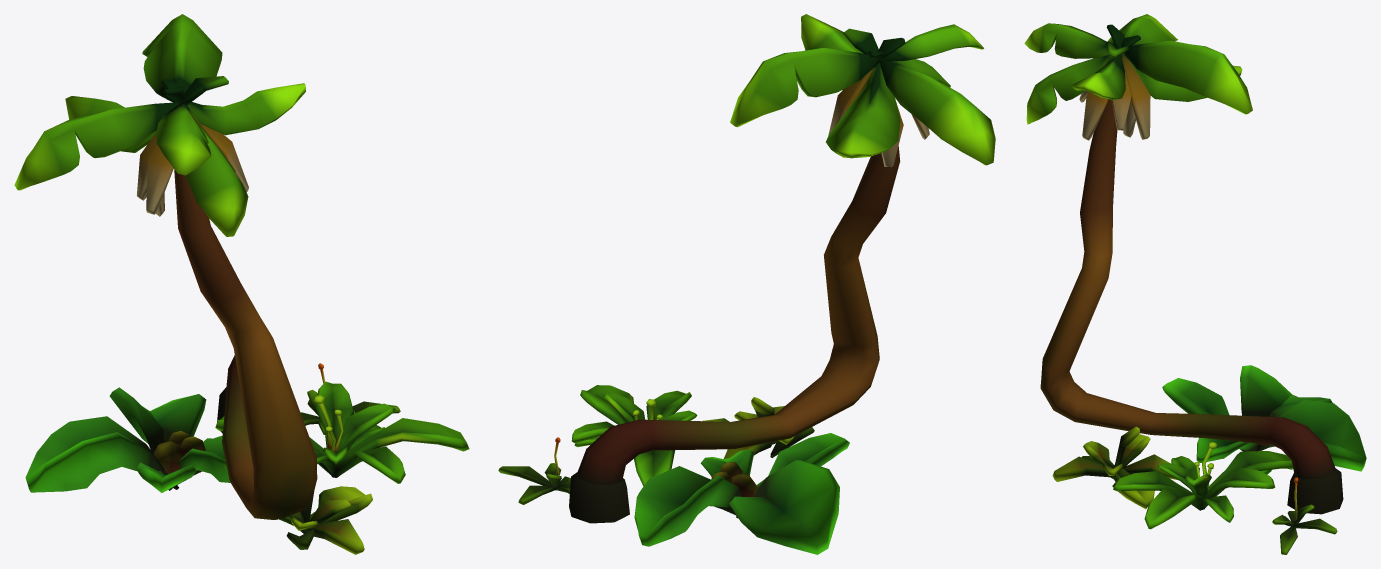
File: Comp_01.fbx
The picture shows the model from 3 angles, left to right: view 1: azimuth 30°, elevation 25°; view 2: azimuth 150°, elevation 25°; view 3: azimuth 270°, elevation 25°; orthographic projection. The views are drawn at different scales.
Visible parts, largest first — view 1: Comp_01; view 2: Comp_01; view 3: Comp_01.
Boxes of the visible parts, x1=… form: Comp_01: x1=14, y1=14, x2=469, y2=554; Comp_01: x1=498, y1=14, x2=995, y2=554; Comp_01: x1=1024, y1=14, x2=1366, y2=554.
Bounding box in the file's own units: 4824 × 4965 × 3757.
